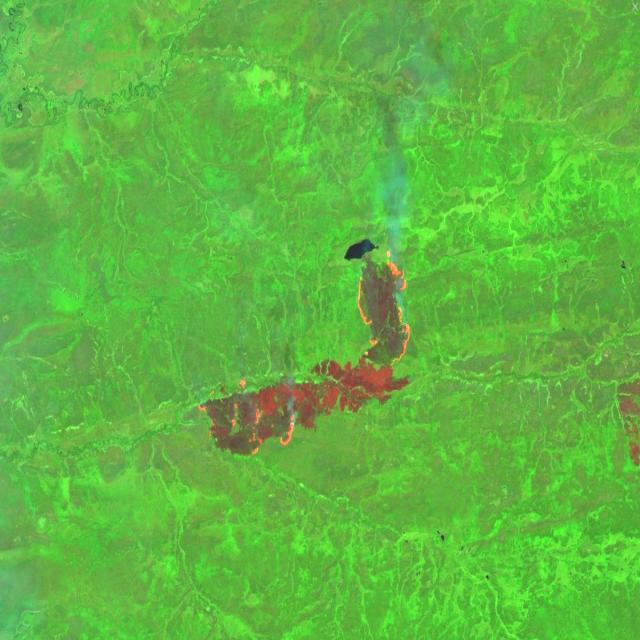fire: (195, 375, 297, 451), (354, 244, 414, 370)
